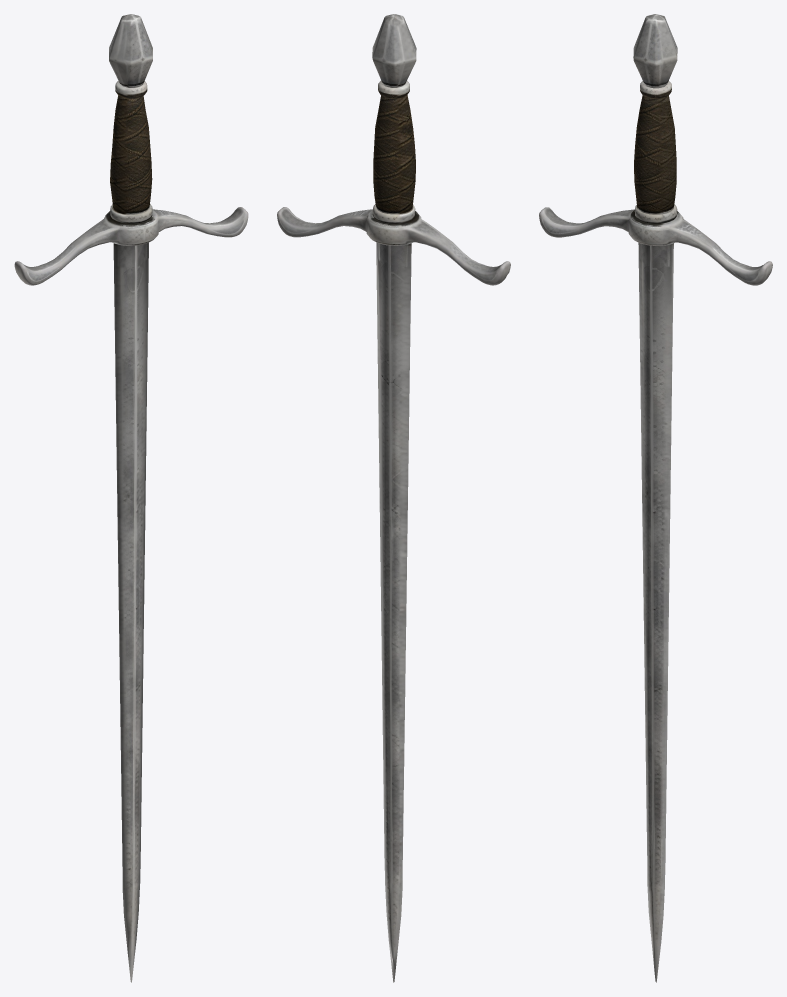
The model's file is medieval+sword+model.glb.
3 renders of one model, left to right at view 1: azimuth 30°, elevation 25°; view 2: azimuth 150°, elevation 25°; view 3: azimuth 330°, elevation 25°, orthographic.
Visible parts, largest first — view 1: tripo_node_903478e0-4447-4bfb-89ae-75b6225b555d; view 2: tripo_node_903478e0-4447-4bfb-89ae-75b6225b555d; view 3: tripo_node_903478e0-4447-4bfb-89ae-75b6225b555d.
Boxes of the visible parts, x1,y1,x2,y2 form: tripo_node_903478e0-4447-4bfb-89ae-75b6225b555d: (14, 14, 248, 982); tripo_node_903478e0-4447-4bfb-89ae-75b6225b555d: (277, 14, 510, 982); tripo_node_903478e0-4447-4bfb-89ae-75b6225b555d: (539, 14, 772, 982).
Size of the model in its own units: 0.2446 by 0.9995 by 0.0483.
1 material, 1 textured.
